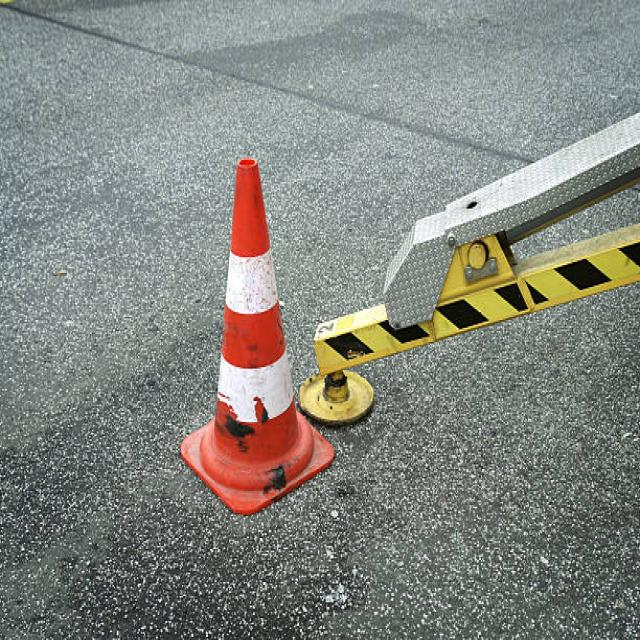Traffic Cone: (168, 120, 340, 530)
